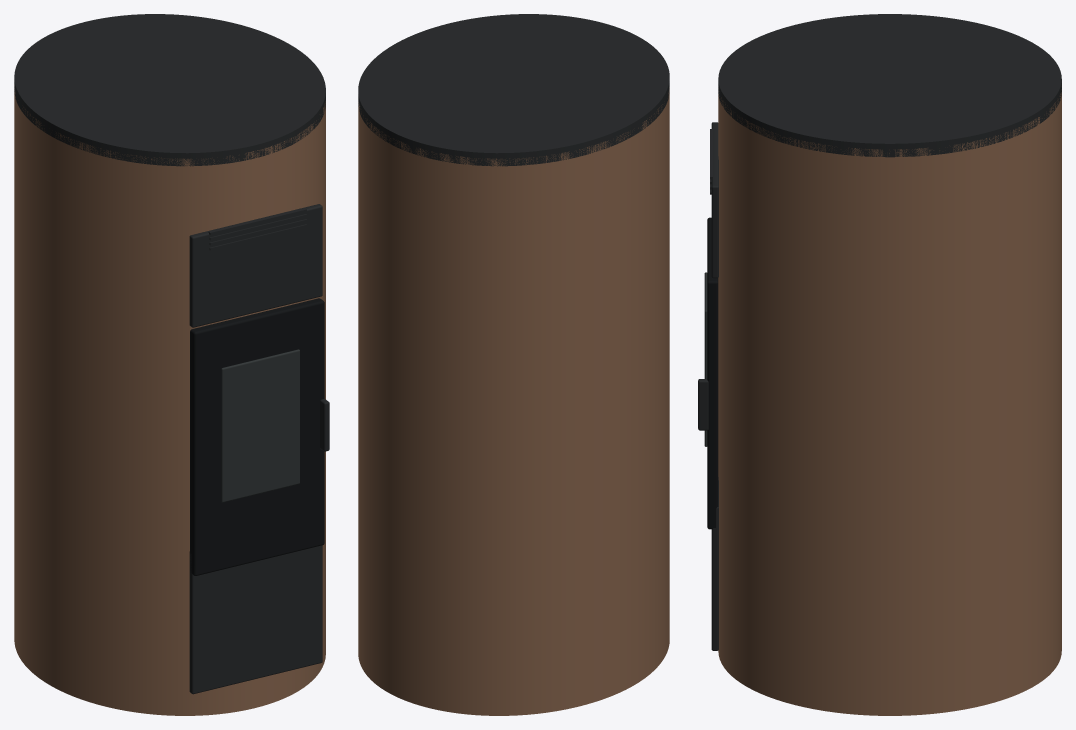
The model's file is ravelli-dual-7-bronzo.glb.
3 views of the same model, side by side, from view 1: azimuth 30°, elevation 25°; view 2: azimuth 150°, elevation 25°; view 3: azimuth 270°, elevation 25° (orthographic).
Parts seen in each view (by area): view 1: Corpo cilindrico, Coperchio.002, Cornice porta.002, Pannello frontale inferiore, Pannello frontale superiore, Vetro sportello.002, Maniglia.002; view 2: Corpo cilindrico, Coperchio.002; view 3: Corpo cilindrico, Coperchio.002, Cornice porta.002, Pannello frontale superiore, Pannello frontale inferiore.
Part boxes in pixels (x1=…): Corpo cilindrico: x1=14, y1=85, x2=325, y2=715; Coperchio.002: x1=14, y1=14, x2=325, y2=166; Cornice porta.002: x1=190, y1=298, x2=324, y2=575; Pannello frontale inferiore: x1=189, y1=545, x2=322, y2=694; Pannello frontale superiore: x1=189, y1=204, x2=322, y2=327; Vetro sportello.002: x1=221, y1=349, x2=299, y2=502; Maniglia.002: x1=320, y1=399, x2=329, y2=451; Corpo cilindrico: x1=358, y1=87, x2=669, y2=715; Coperchio.002: x1=358, y1=14, x2=669, y2=166; Corpo cilindrico: x1=718, y1=86, x2=1061, y2=715; Coperchio.002: x1=718, y1=14, x2=1061, y2=157; Cornice porta.002: x1=707, y1=217, x2=718, y2=529; Pannello frontale superiore: x1=711, y1=122, x2=718, y2=278; Pannello frontale inferiore: x1=711, y1=477, x2=718, y2=650.
Bounding box in the file's own units: 0.502 × 1.03 × 0.594.
